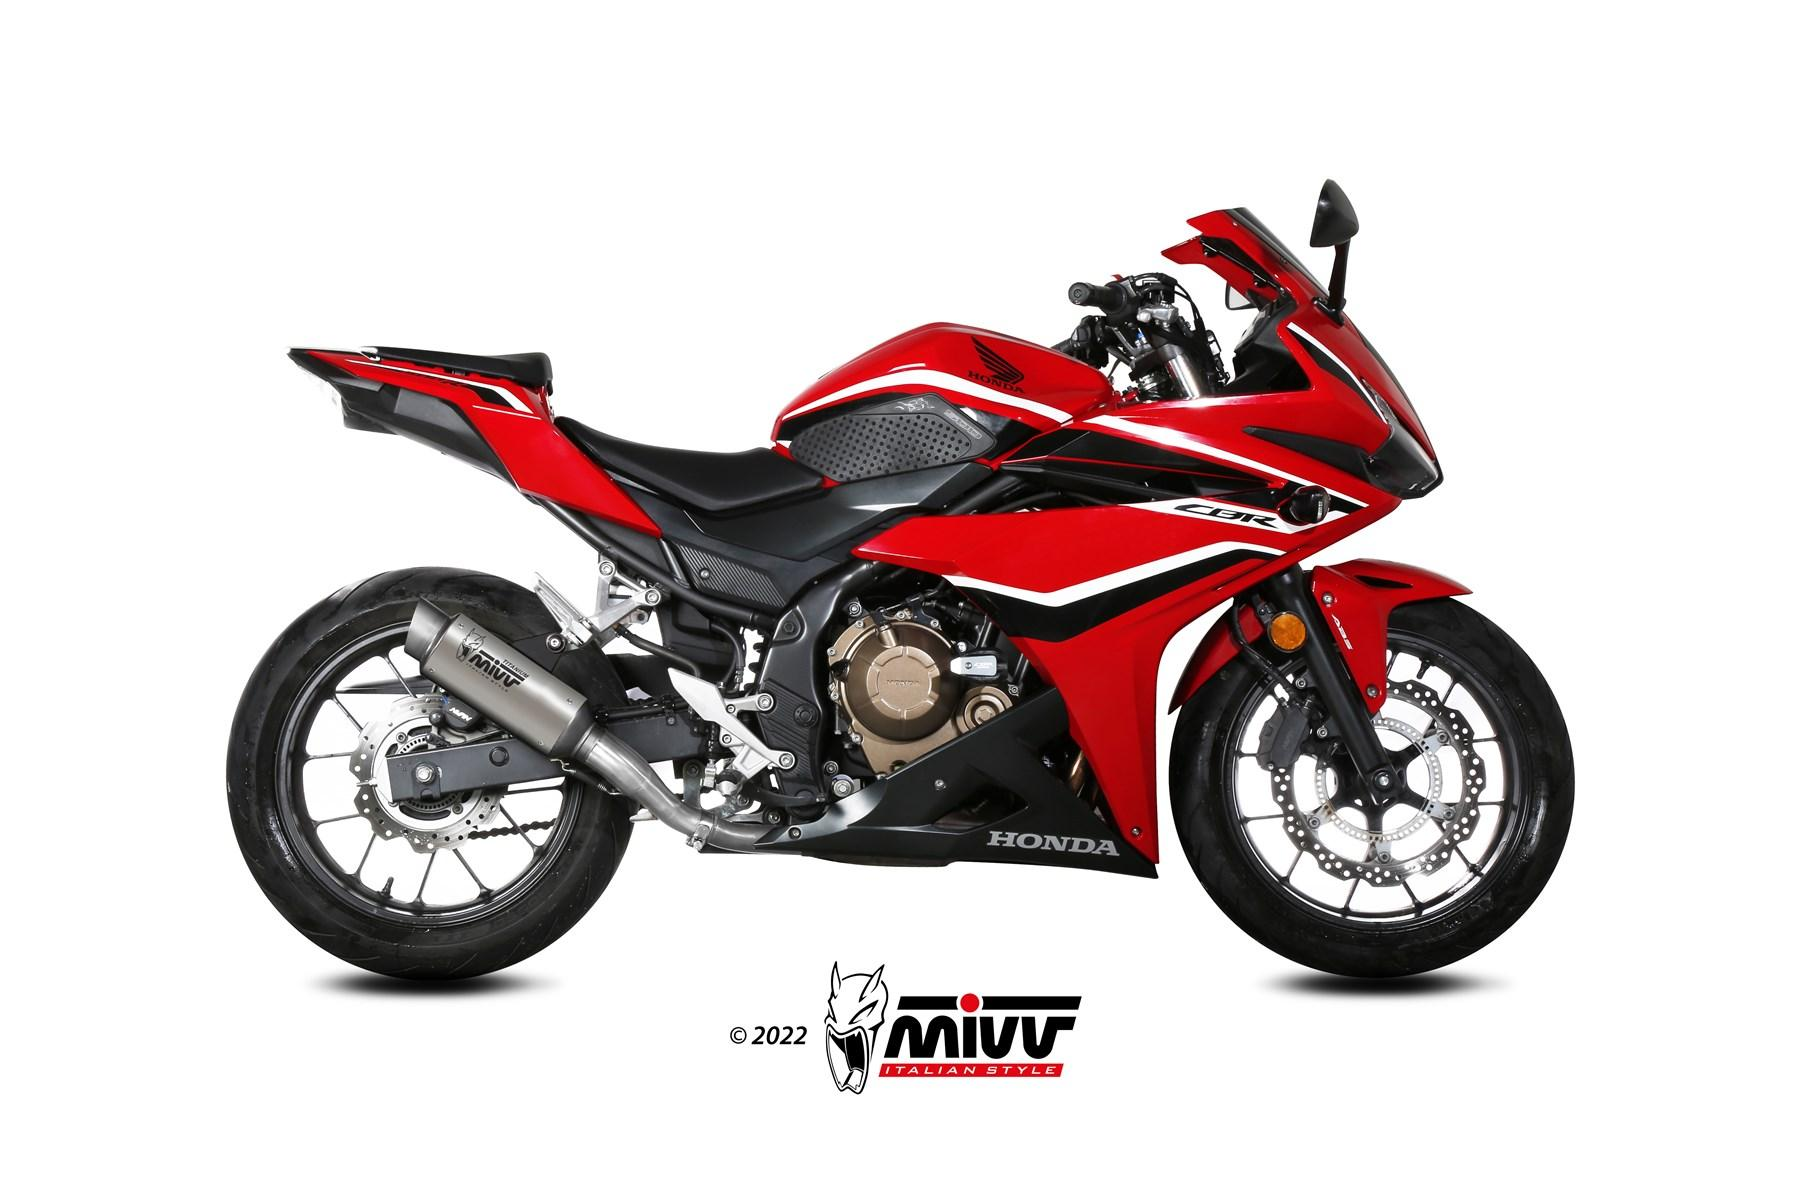engine-chasis: (667, 557, 1158, 879), (739, 628, 770, 696)
exhaust: (404, 595, 801, 854)
frontside: (849, 206, 1475, 864)
handlebar: (1049, 272, 1310, 407), (1310, 178, 1359, 327), (1225, 281, 1258, 311)
rearside: (284, 346, 994, 698), (592, 652, 735, 787), (356, 738, 568, 802)
seat: (553, 415, 824, 513), (356, 346, 553, 398)
tank: (769, 321, 1116, 487)
watermark: (688, 933, 1130, 1145)
wheel: (226, 567, 640, 982), (1169, 596, 1575, 979), (1232, 597, 1304, 704), (611, 621, 704, 679), (593, 696, 691, 725)
